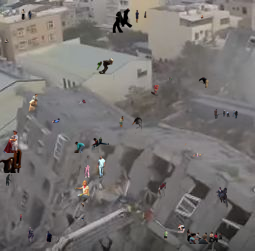Human: (0, 148, 22, 173), (112, 8, 133, 34), (3, 130, 26, 153), (187, 229, 222, 244), (84, 155, 106, 178), (119, 112, 142, 134), (27, 227, 52, 243), (28, 94, 47, 115), (74, 138, 99, 153), (74, 180, 90, 202), (96, 58, 114, 74), (216, 187, 228, 208), (214, 109, 238, 119), (191, 77, 209, 88), (93, 136, 109, 148), (6, 174, 22, 186), (151, 85, 167, 96), (158, 181, 167, 200), (135, 10, 147, 23), (21, 9, 32, 20), (177, 224, 185, 233), (193, 152, 204, 157), (50, 118, 60, 123), (163, 230, 168, 240), (78, 99, 86, 105), (4, 38, 9, 43), (20, 214, 22, 221), (81, 203, 84, 207), (81, 217, 84, 221), (201, 15, 204, 19), (45, 7, 50, 9), (169, 77, 172, 80), (184, 143, 187, 146)
